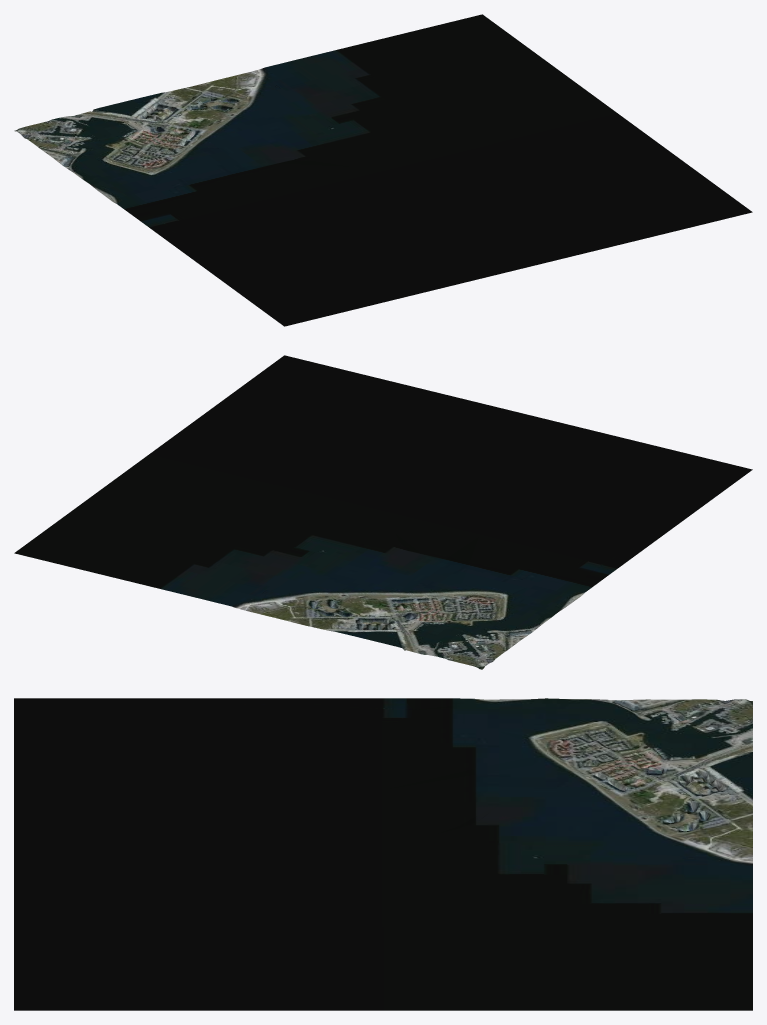
Rendered from map_10_250_422.dae.
3 views of the same model, one above another, from view 1: azimuth 30°, elevation 25°; view 2: azimuth 150°, elevation 25°; view 3: azimuth 270°, elevation 25° (orthographic). The views are drawn at different scales.
Visible parts, largest first — view 1: Ter0; view 2: Ter0; view 3: Ter0.
Boxes of the visible parts, x1,y1,x2,y2 form: Ter0: [14, 14, 752, 326]; Ter0: [14, 355, 752, 669]; Ter0: [14, 698, 752, 1010].
Bounding box in the file's own units: 2044 × 2044 × 30.73.
Materials: 4 (4 with a texture image).
